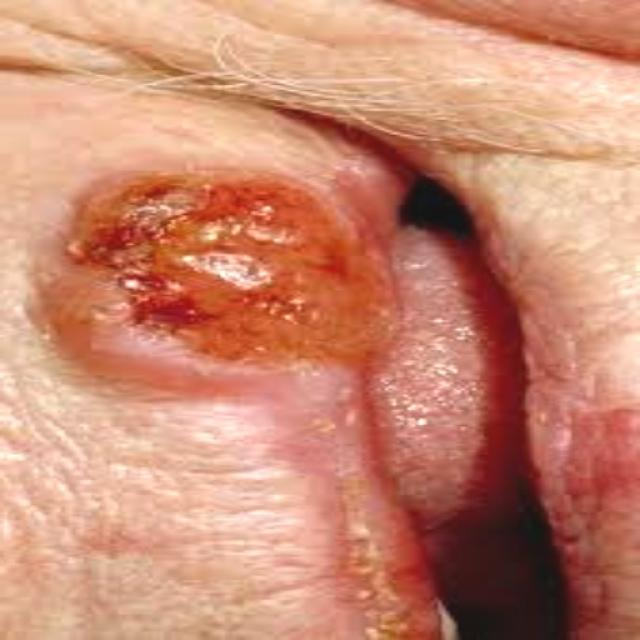cancer-detection: (66, 173, 398, 373)
processing_area: (45, 169, 529, 639)
